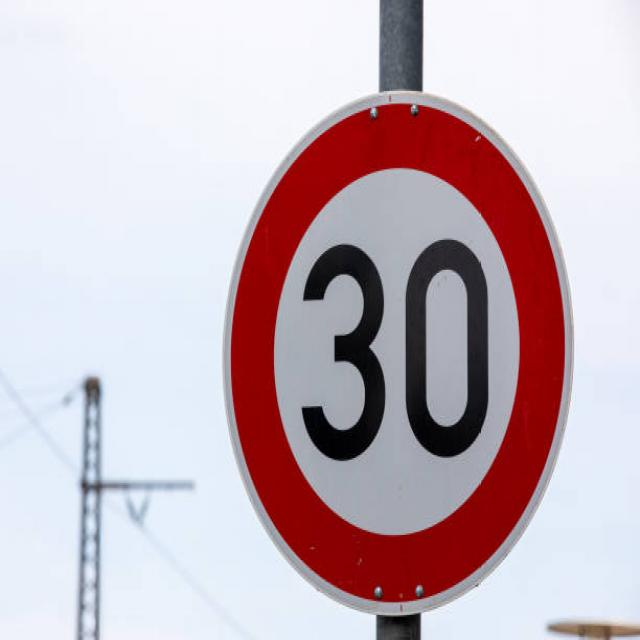speed_limit_30: (211, 81, 578, 618)
